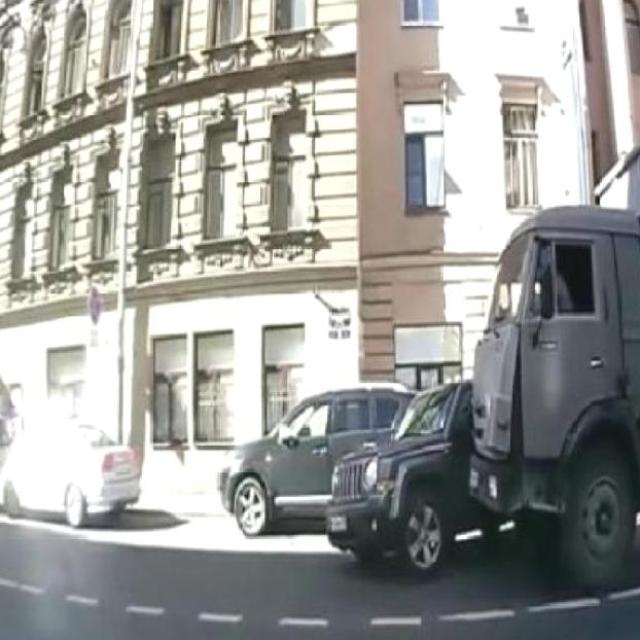accident: (315, 351, 640, 603)
